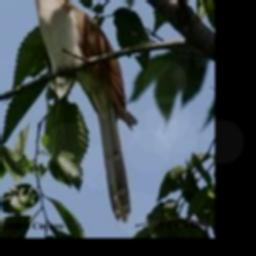Cuckoo: (17, 0, 137, 221)
